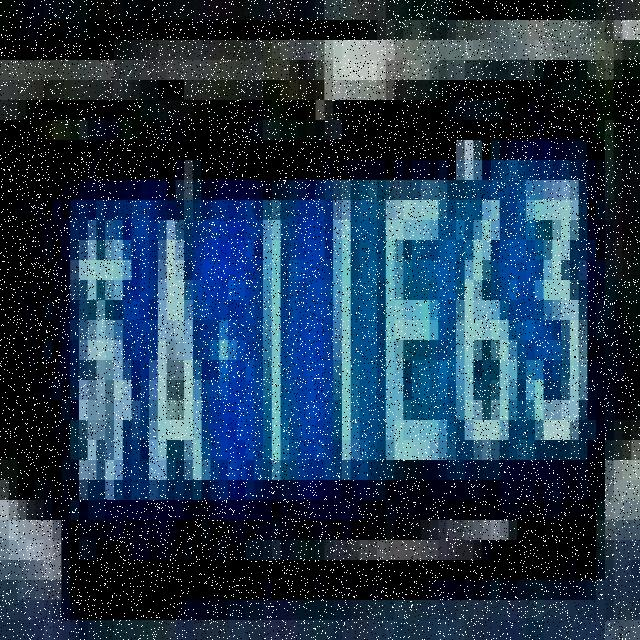licenseplate: (45, 110, 619, 618)
